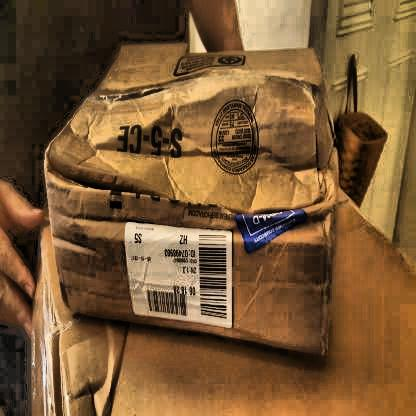defect parcel: (31, 127, 390, 260)
